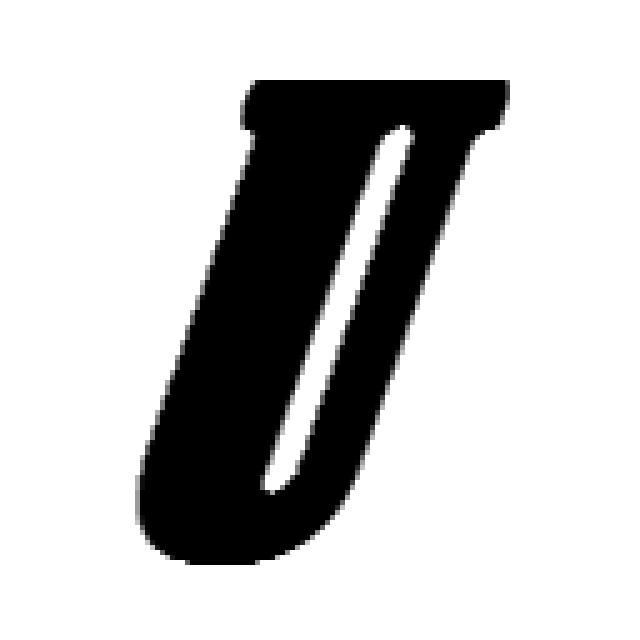U: (130, 70, 510, 570)
